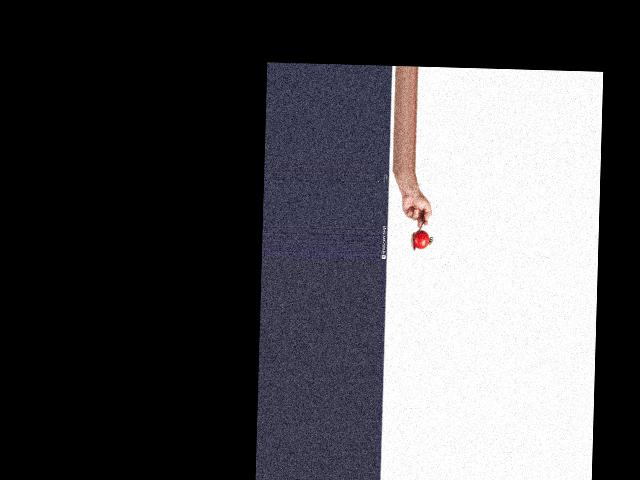tomato: (413, 229, 429, 248)
